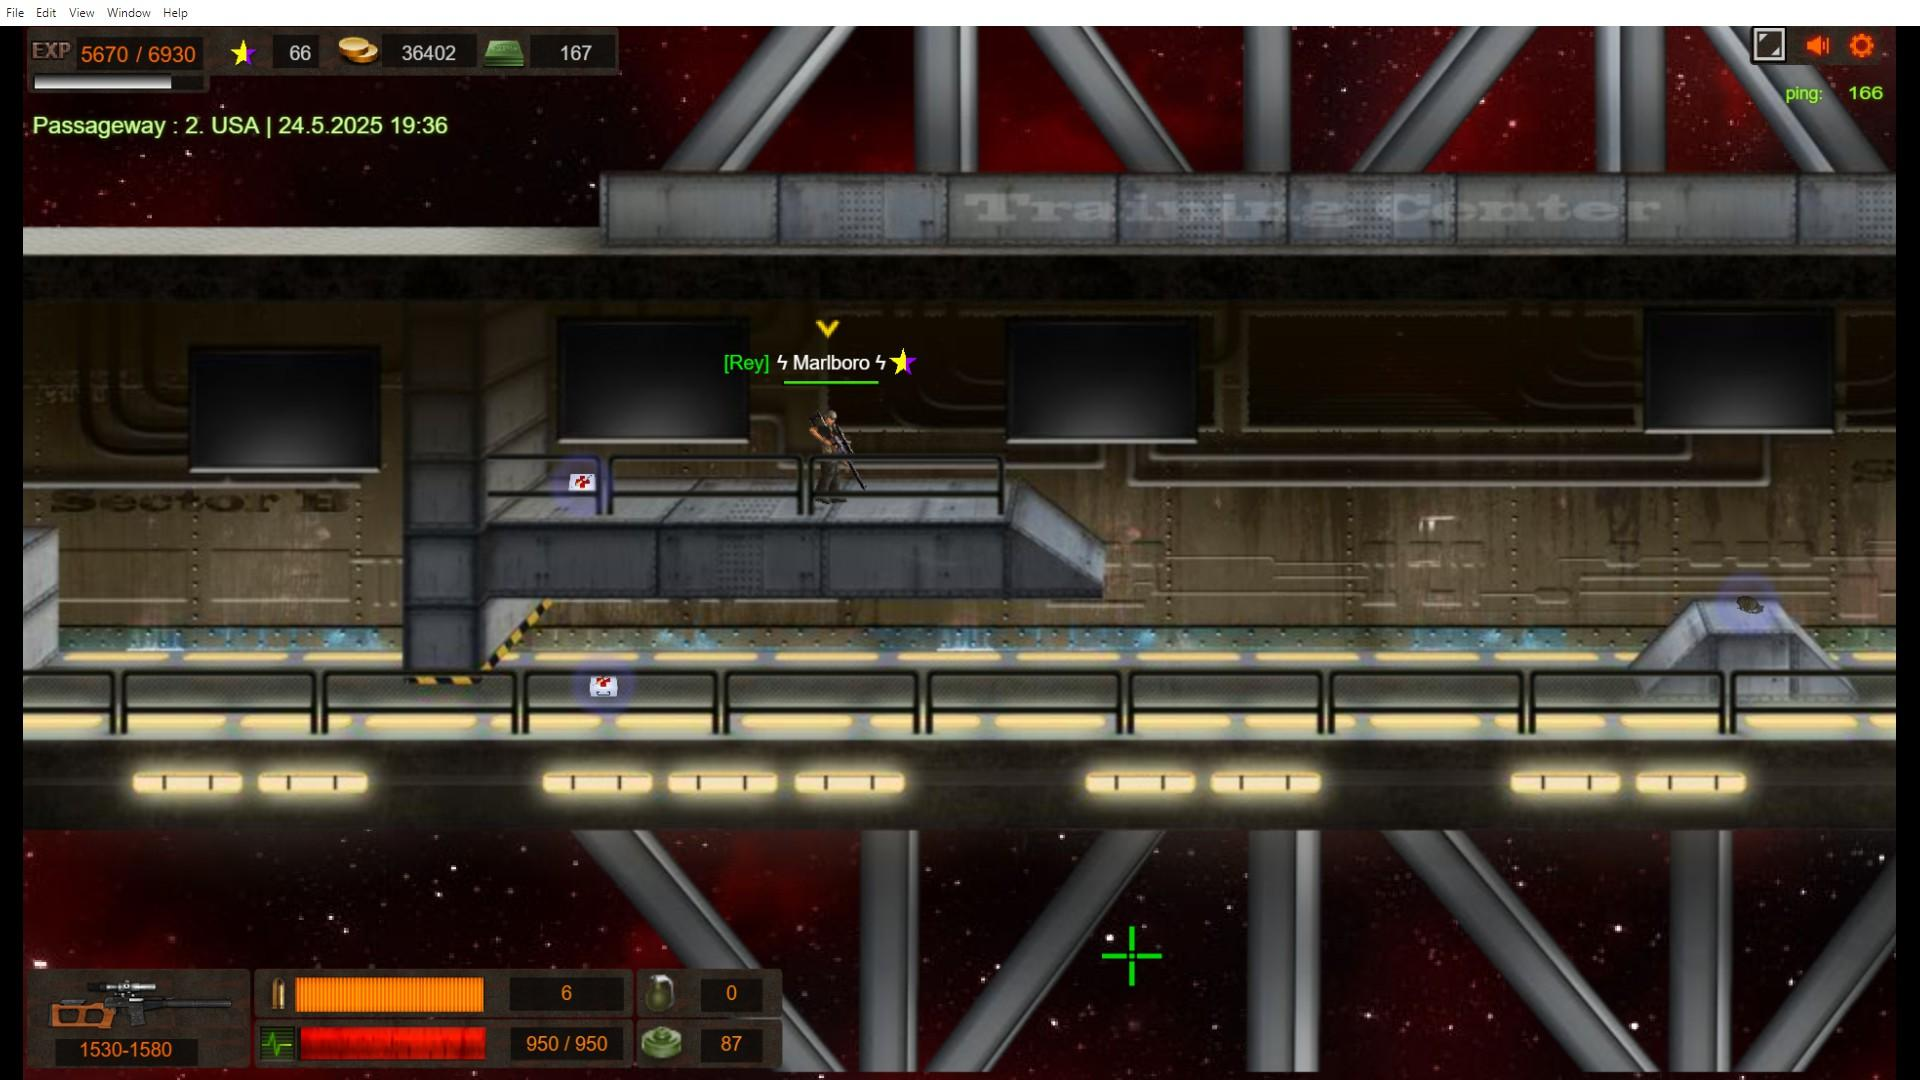enemy: (811, 410, 845, 504)
